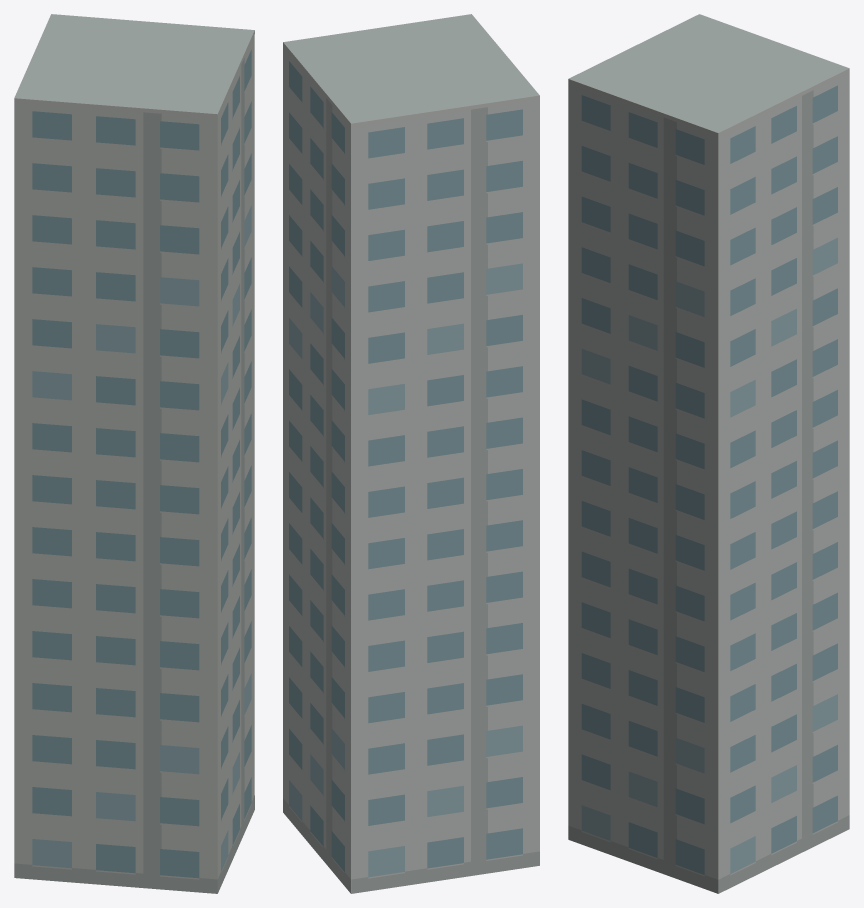
Rendered from residential-b0b019af-dd0d-4f41-9fce-16b124fa9084.glb.
3 renders of one model, left to right at view 1: azimuth 30°, elevation 25°; view 2: azimuth 150°, elevation 25°; view 3: azimuth 270°, elevation 25°, orthographic. The views are drawn at different scales.
Parts seen in each view (by area): view 1: residential-b0b019af-dd0d-4f41-9fce-16b124fa9084.tmp; view 2: residential-b0b019af-dd0d-4f41-9fce-16b124fa9084.tmp; view 3: residential-b0b019af-dd0d-4f41-9fce-16b124fa9084.tmp.
Boxes of the visible parts, box(x1,y1,x2,y2) form: residential-b0b019af-dd0d-4f41-9fce-16b124fa9084.tmp: box(14, 14, 254, 893); residential-b0b019af-dd0d-4f41-9fce-16b124fa9084.tmp: box(283, 14, 539, 893); residential-b0b019af-dd0d-4f41-9fce-16b124fa9084.tmp: box(568, 14, 849, 893).
Bounding box in the file's own units: 16.13 × 48 × 16.11.
